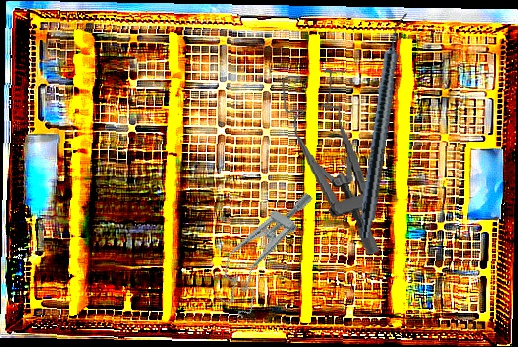Handpiece: (356, 10, 410, 241)
Speculum: (280, 65, 382, 262), (203, 175, 323, 322)
